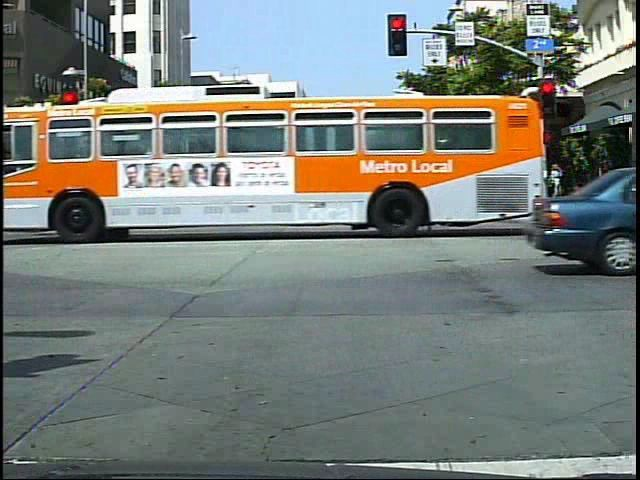person: (285, 165, 317, 229), (185, 168, 216, 234), (341, 166, 371, 230), (548, 160, 570, 211)
